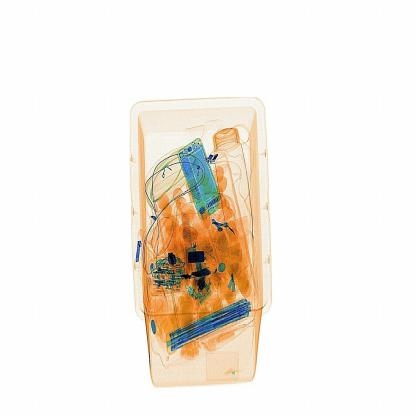scissors: (162, 242, 184, 269)
